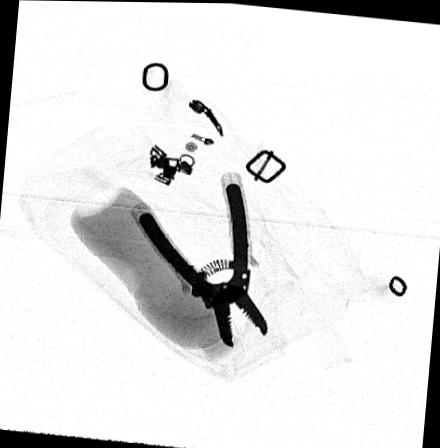Pliers: (134, 184, 269, 349)
